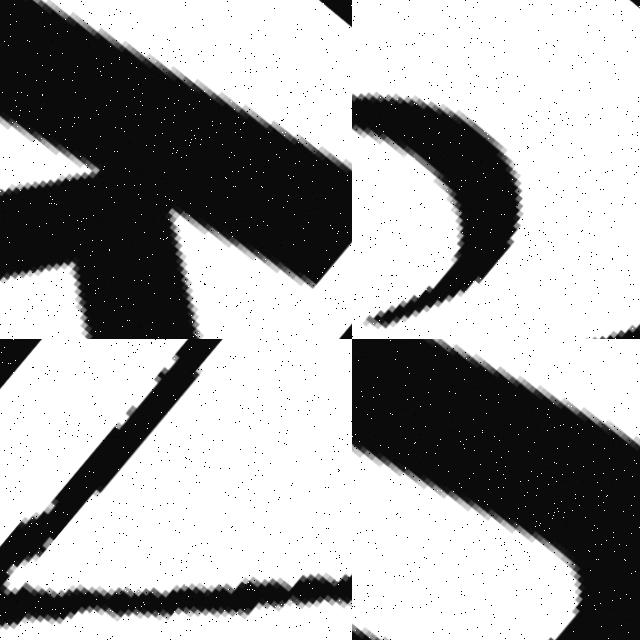9: (352, 0, 640, 339)
K: (0, 0, 352, 339)
U: (352, 339, 640, 640)
Z: (0, 339, 352, 640)
